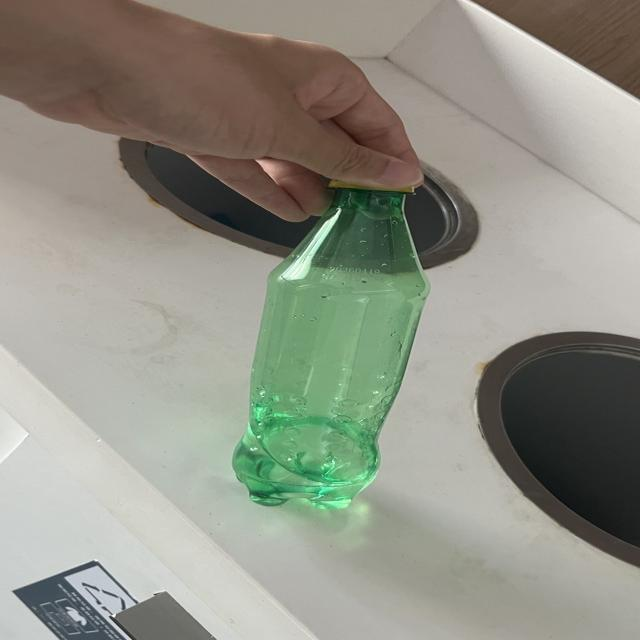low: (233, 181, 429, 508)
